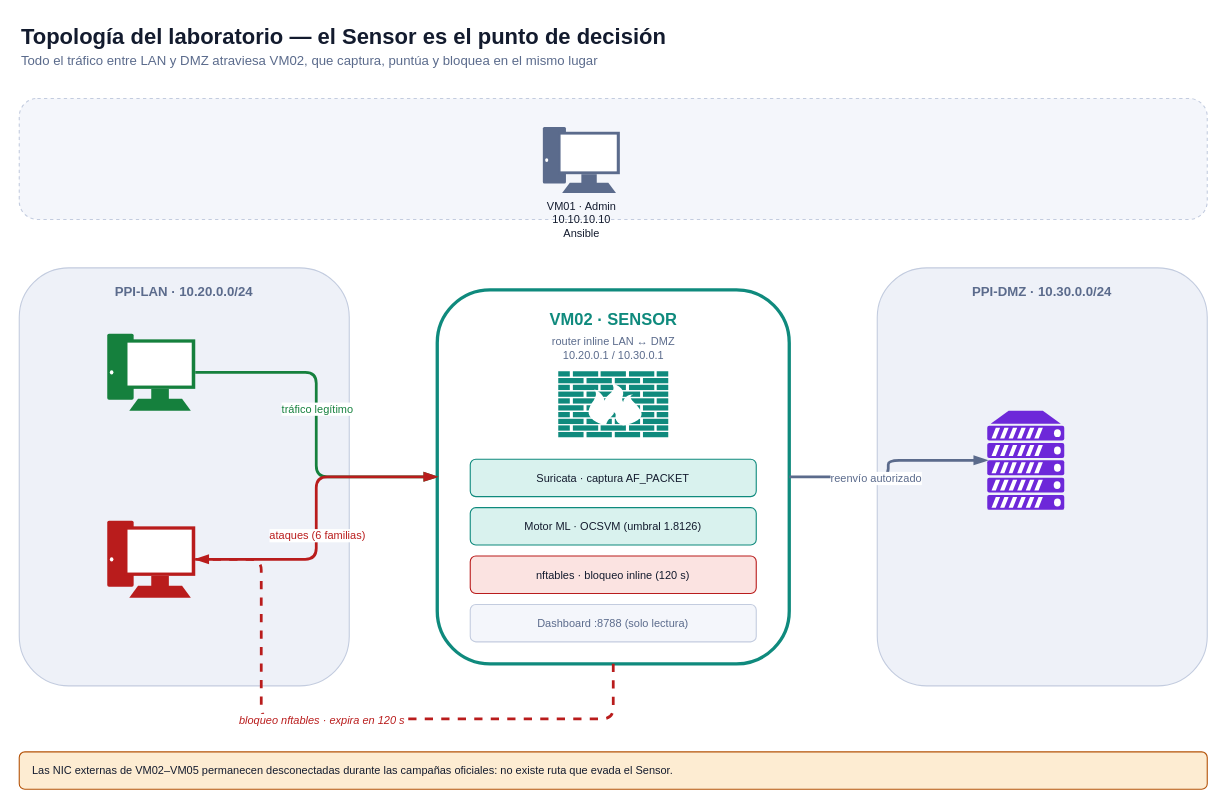
This 1227x809 diagram has some shape labels left out. Here are the shapes that lost their labels. From the top down, the box of each, then its label:
(18, 97, 1207, 219): PPI-MGMT · 10.10.10.0/24 — administración, no participa del tráfico de datos
(107, 333, 195, 410): VM05 · Cliente legítimo 10.20.0.20
(987, 410, 1064, 509): VM03 · Servidor protegido 10.30.0.10 NGINX · DNS · API · SSH
(107, 520, 195, 597): VM04 · Kali (atacante) 10.20.0.100
